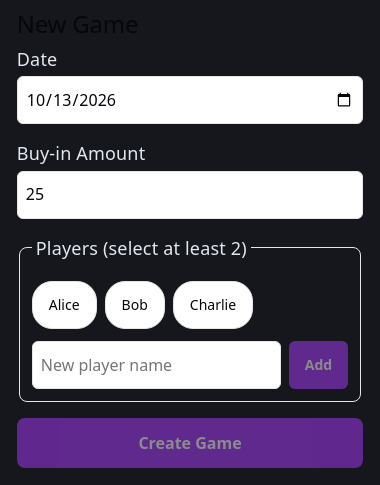
Scenario: GameCreateForm › toggling a player chip deselects it
This screenshot has width=380, height=485.
Click the button "Alice".
click(64, 305)  # box [32,281,97,329]
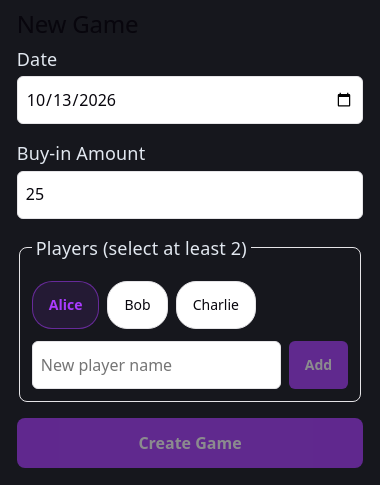
Click the button "Bob".
click(138, 305)  # box [108,281,168,329]
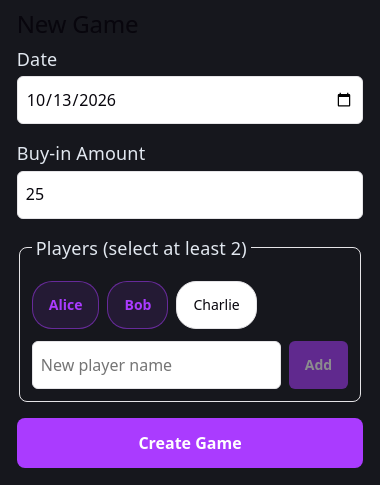
Now the button "Create Game" is enabled, box [17,418,363,468]
Note: Deselect Alice
Click the button "Alice".
click(66, 305)  # box [32,281,100,329]
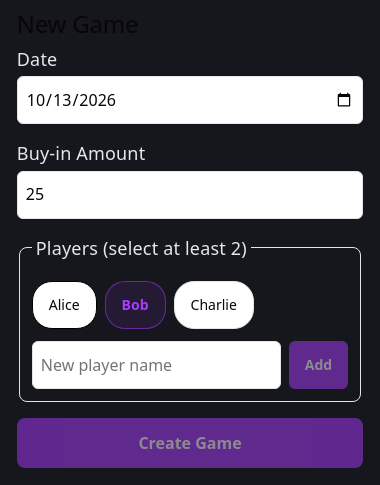
Now the button "Create Game" is disabled, box [17,418,363,468]
